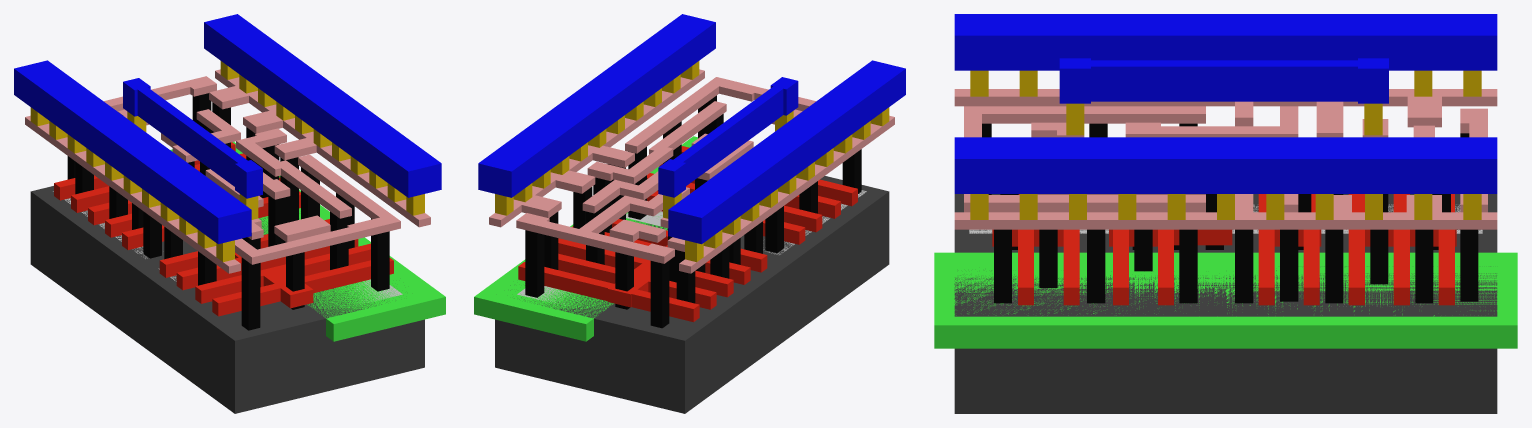
Rendered from sky130_fd_sc_hd__mux2i_2.obj.
The picture shows the model from 3 angles, left to right: view 1: azimuth 30°, elevation 25°; view 2: azimuth 150°, elevation 25°; view 3: azimuth 270°, elevation 25°; orthographic projection. The views are drawn at different scales.
Parts seen in each view (by area): view 1: subs, metal1, li, licon, poly, nwell, mcon, tap; view 2: subs, metal1, li, licon, poly, mcon, nwell, tap; view 3: metal1, subs, nwell, li, licon, poly, mcon.
Boxes of the visible parts, left/top/right/bottom form: subs: left=30, top=186, right=424, bottom=413; metal1: left=14, top=14, right=441, bottom=244; li: left=25, top=69, right=430, bottom=273; licon: left=67, top=93, right=389, bottom=330; poly: left=54, top=142, right=393, bottom=316; nwell: left=170, top=142, right=445, bottom=341; mcon: left=30, top=61, right=424, bottom=262; tap: left=349, top=279, right=402, bottom=302; subs: left=495, top=176, right=889, bottom=413; metal1: left=478, top=14, right=905, bottom=244; li: left=489, top=69, right=894, bottom=273; licon: left=525, top=95, right=861, bottom=328; poly: left=518, top=146, right=857, bottom=322; mcon: left=495, top=61, right=889, bottom=262; nwell: left=474, top=136, right=697, bottom=341; tap: left=517, top=211, right=662, bottom=305; metal1: left=954, top=14, right=1497, bottom=193; subs: left=954, top=194, right=1497, bottom=413; nwell: left=934, top=252, right=1517, bottom=348; li: left=954, top=89, right=1497, bottom=229; licon: left=982, top=123, right=1478, bottom=303; poly: left=992, top=194, right=1456, bottom=305; mcon: left=970, top=70, right=1481, bottom=219.
Size of the model in its own units: 3.2 by 2.74 by 5.44.
